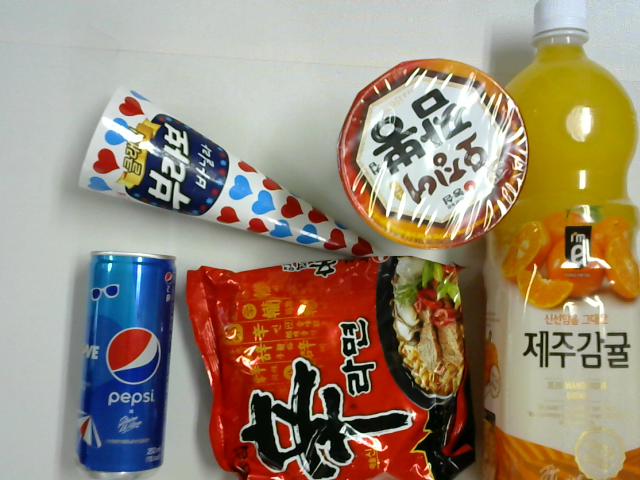Bravo_Cone_(Banila)_CVS: (78, 88, 386, 264)
Jeju_Tangerine_1.5L: (483, 1, 640, 477)
Ojjam: (341, 60, 530, 249)
Pepsi_Cola_Can_250ml: (78, 254, 178, 480)
Sinramen: (178, 257, 471, 480)
